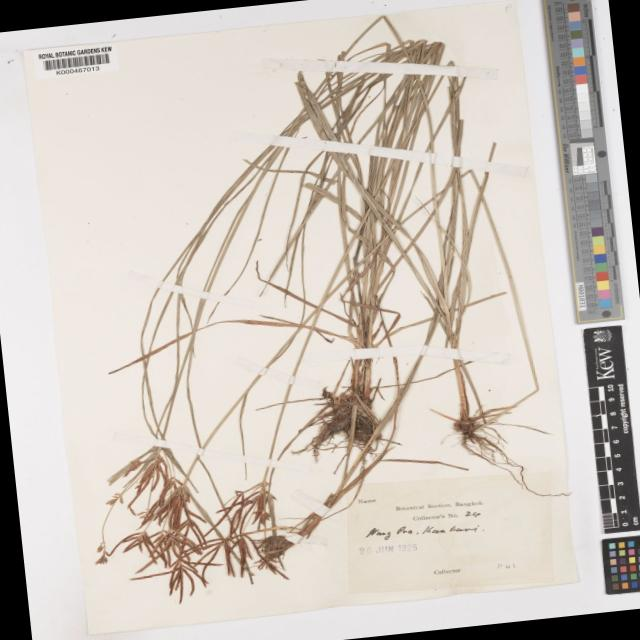cyperus: (110, 500, 238, 603), (100, 449, 183, 507)
